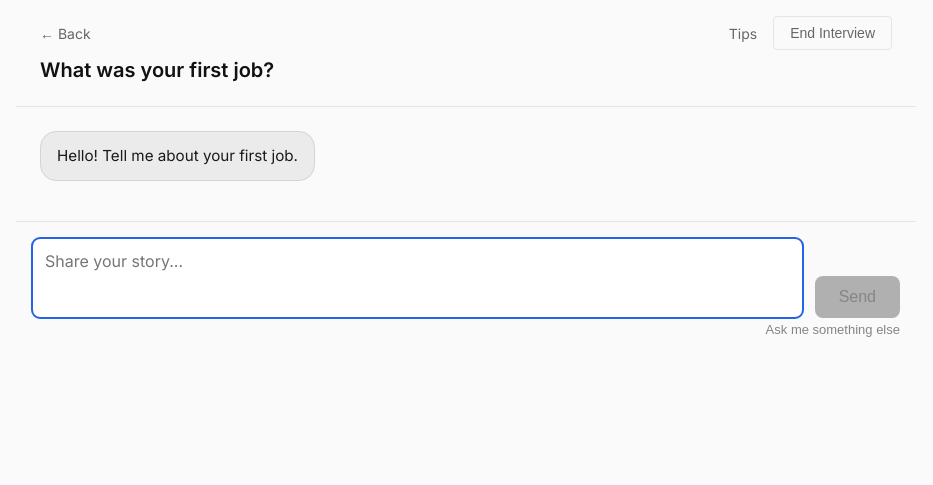
Scenario: InterviewSession › sends message and shows optimistic USER message immediately
Type "My first job was at a bakery." into the text box with placeholder "Share your story..." at {"x": 417, "y": 278}, box [32, 238, 803, 318]
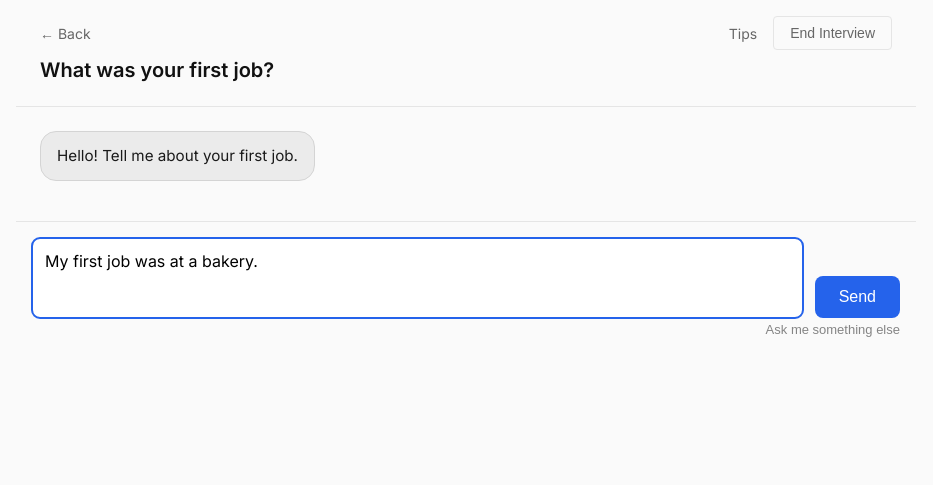
Press Enter
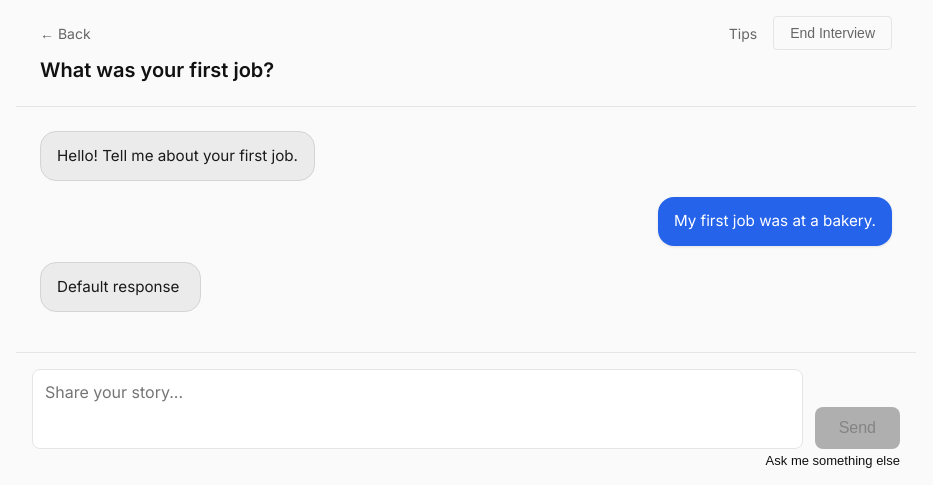
Expected: the text "My first job was at a bakery." is shown, [658, 197, 892, 246]
